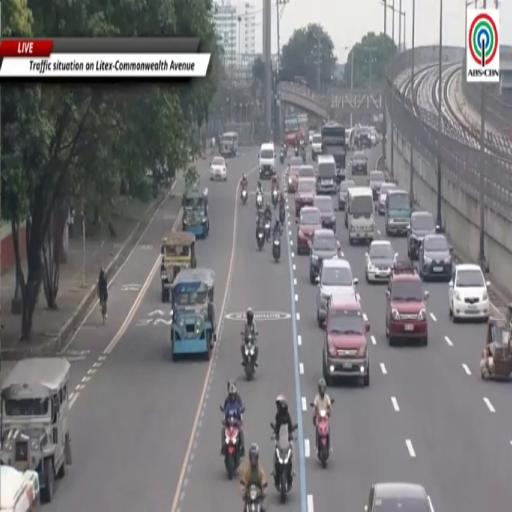bus: (321, 123, 346, 170), (285, 116, 299, 147), (298, 115, 308, 141), (346, 128, 354, 151)
car: (323, 298, 369, 386), (386, 262, 428, 346), (316, 259, 358, 326), (449, 264, 490, 322), (364, 483, 434, 511), (310, 229, 339, 283), (419, 234, 452, 281), (407, 212, 439, 260), (366, 240, 397, 282), (297, 206, 321, 254), (314, 196, 336, 232), (295, 178, 315, 216), (378, 183, 396, 215), (339, 180, 356, 211), (369, 170, 385, 200), (210, 156, 227, 181), (287, 164, 300, 193), (351, 152, 367, 175), (358, 127, 371, 149), (312, 134, 322, 161), (299, 165, 316, 179), (289, 156, 303, 167), (370, 127, 377, 146), (308, 130, 315, 144)
jeepney: (0, 358, 71, 502), (171, 268, 215, 360), (161, 232, 196, 302), (480, 304, 511, 379), (0, 466, 40, 511), (182, 186, 209, 237), (221, 132, 238, 156)
motorcycle: (273, 427, 293, 503), (223, 416, 241, 479), (316, 410, 330, 468), (241, 332, 257, 380), (245, 485, 263, 511), (272, 234, 281, 262), (256, 227, 264, 250), (264, 220, 271, 242), (256, 191, 264, 209), (272, 188, 278, 209), (279, 204, 285, 225), (241, 188, 247, 204), (280, 150, 285, 164), (302, 150, 305, 164), (295, 147, 299, 156)
truck: (321, 122, 346, 181)
